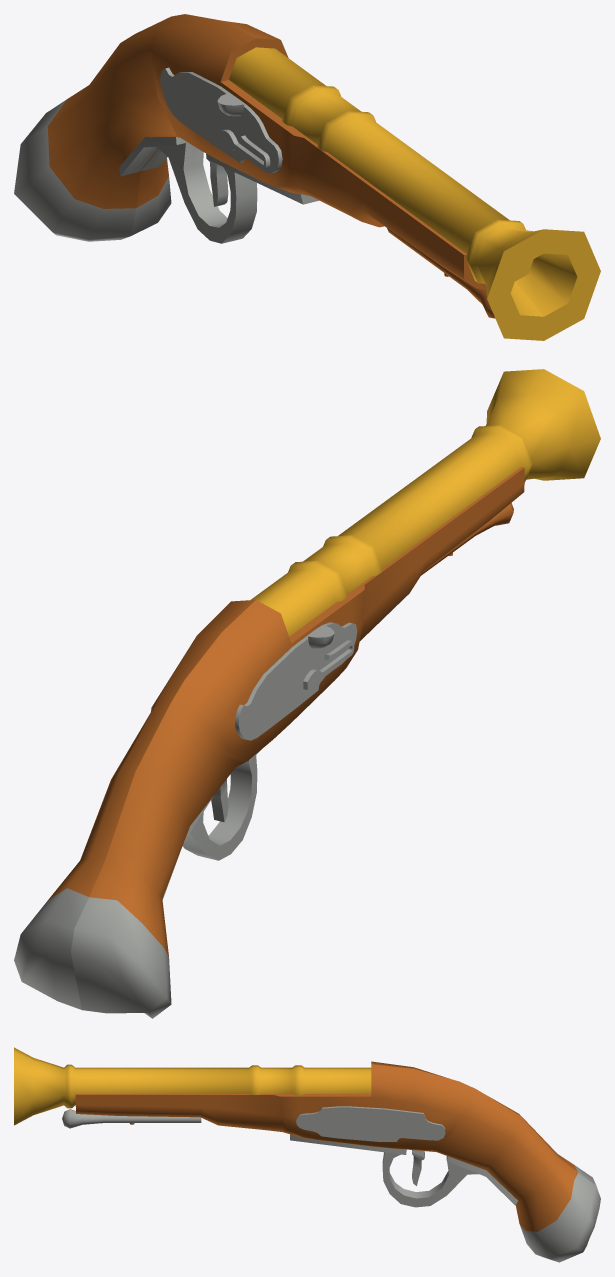
File: Flintlock_Pistol.fbx
3 renders of one model, top to bottom at view 1: azimuth 30°, elevation 25°; view 2: azimuth 150°, elevation 25°; view 3: azimuth 270°, elevation 25°, orthographic. The views are drawn at different scales.
Parts seen in each view (by area): view 1: Flintlock_Pistol; view 2: Flintlock_Pistol; view 3: Flintlock_Pistol.
Part boxes in pixels (<box>): Flintlock_Pistol: <box>14,14,600,340</box>; Flintlock_Pistol: <box>14,369,600,1018</box>; Flintlock_Pistol: <box>14,1047,600,1262</box>.
Size of the model in its own units: 24.79 by 49.7 by 133.
